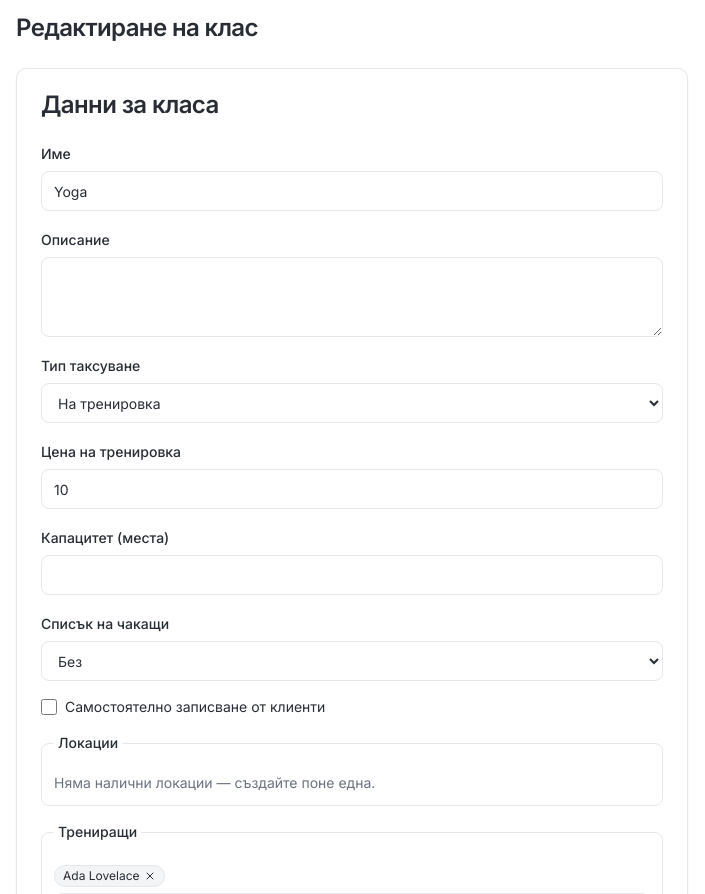
Test: EditClassPage — roster management › states the consumes-a-visit contract only for FIFO_AUTO
Select "Автоматично (по ред)" in the dropdown with id "waitlistMode" at (352, 661), box 41,641 -> 663,681
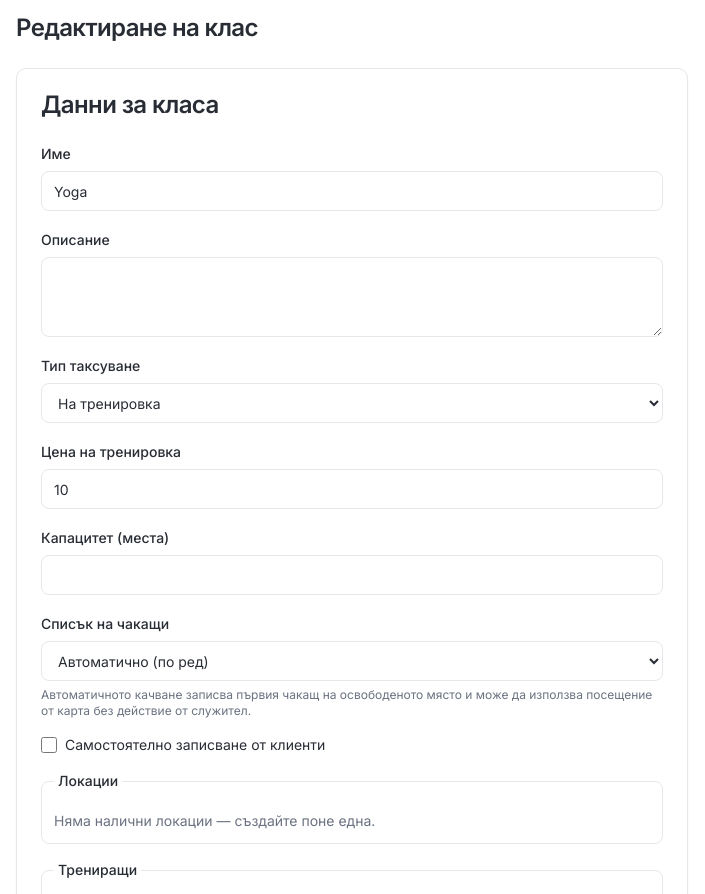
Expected: the text "посещение от карта" is shown, 41,687 -> 652,718
Select "Покана по имейл" in the dropdown with id "waitlistMode" at (352, 661), box 41,641 -> 663,681
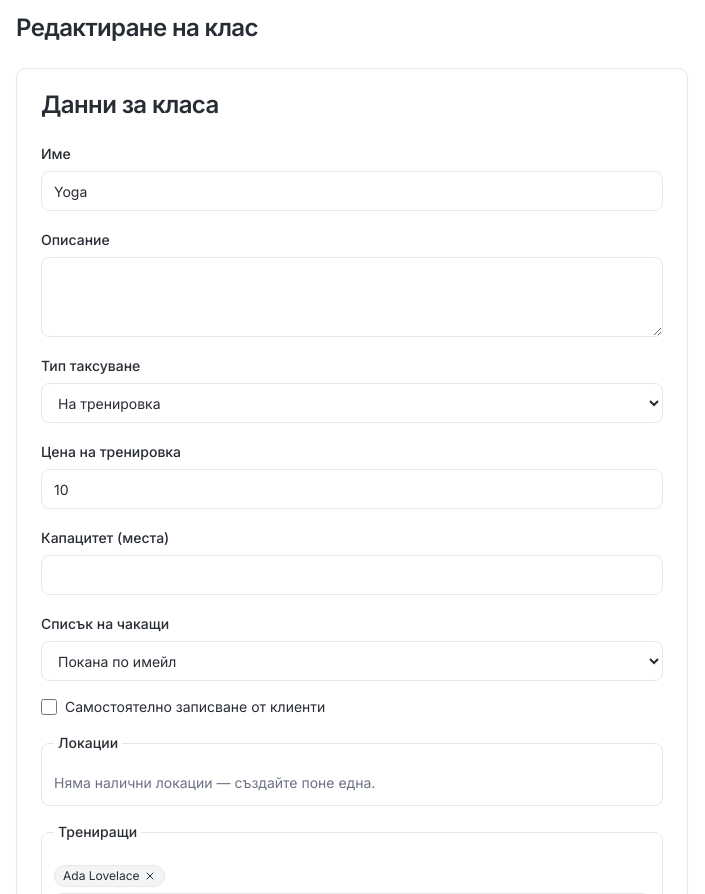
Expected: the text "посещение от карта" is gone
